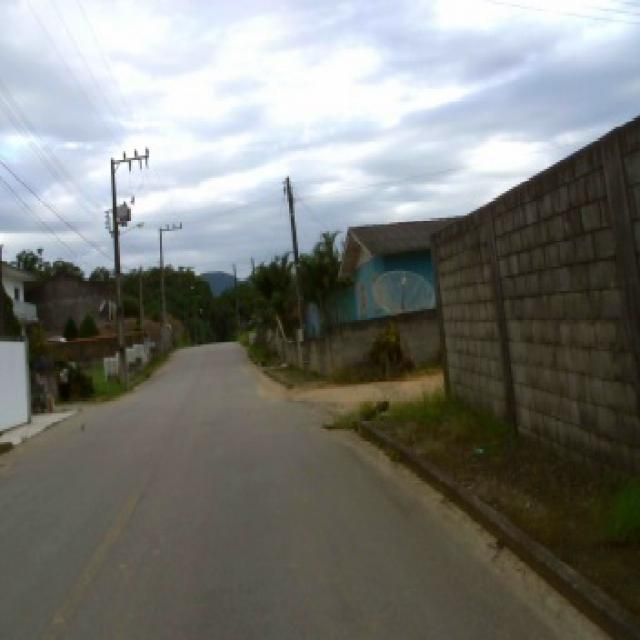Poth-hole: (318, 420, 344, 429)
